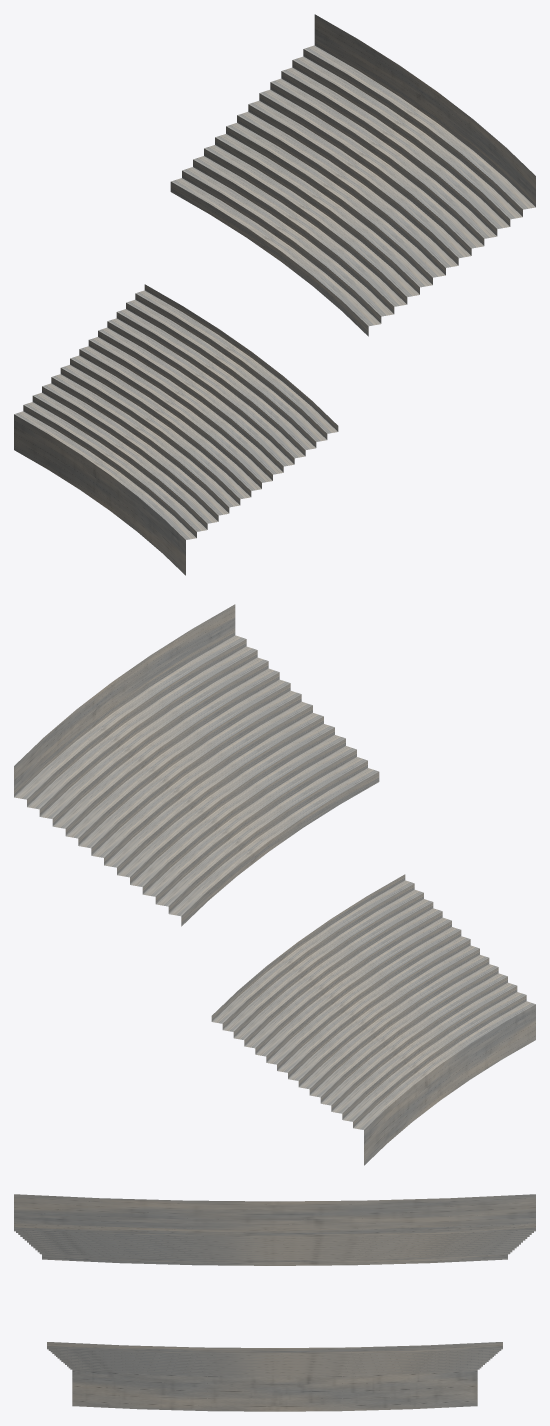
Rendered from stand_module.glb.
The picture shows the model from 3 angles, top to bottom: view 1: azimuth 30°, elevation 25°; view 2: azimuth 150°, elevation 25°; view 3: azimuth 270°, elevation 25°; orthographic projection. The views are drawn at different scales.
Parts seen in each view (by area): view 1: Stand_Module; view 2: Stand_Module; view 3: Stand_Module.
Part boxes in pixels (box(x1,y1,x2,y2)): Stand_Module: box(14, 14, 535, 575); Stand_Module: box(14, 604, 535, 1165); Stand_Module: box(14, 1194, 535, 1411).
Size of the model in its own units: 23.68 by 22.68 by 26.89.
Materials: 1 (1 with a texture image).
